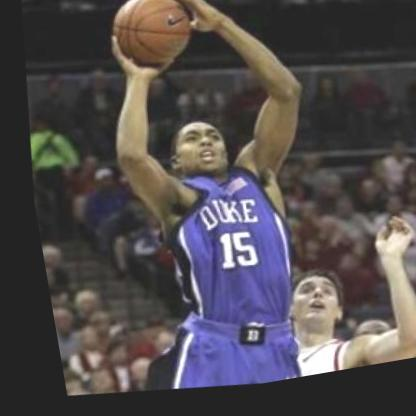basketball: (101, 0, 200, 86)
